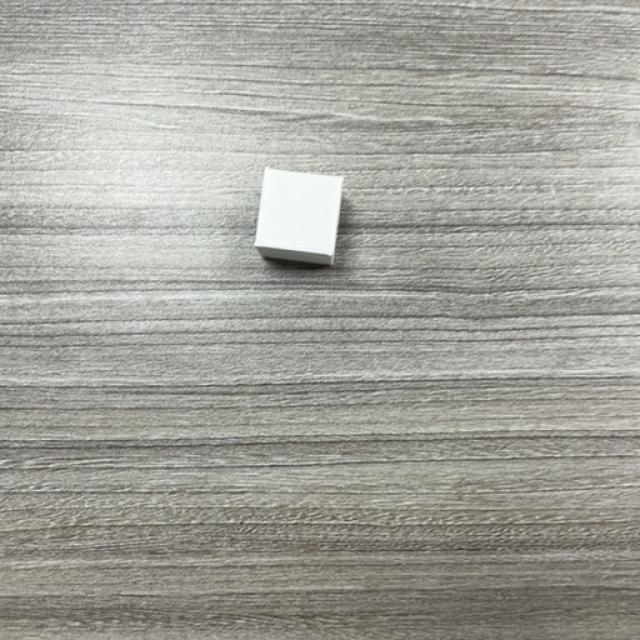Blanco: (254, 168, 344, 268)
